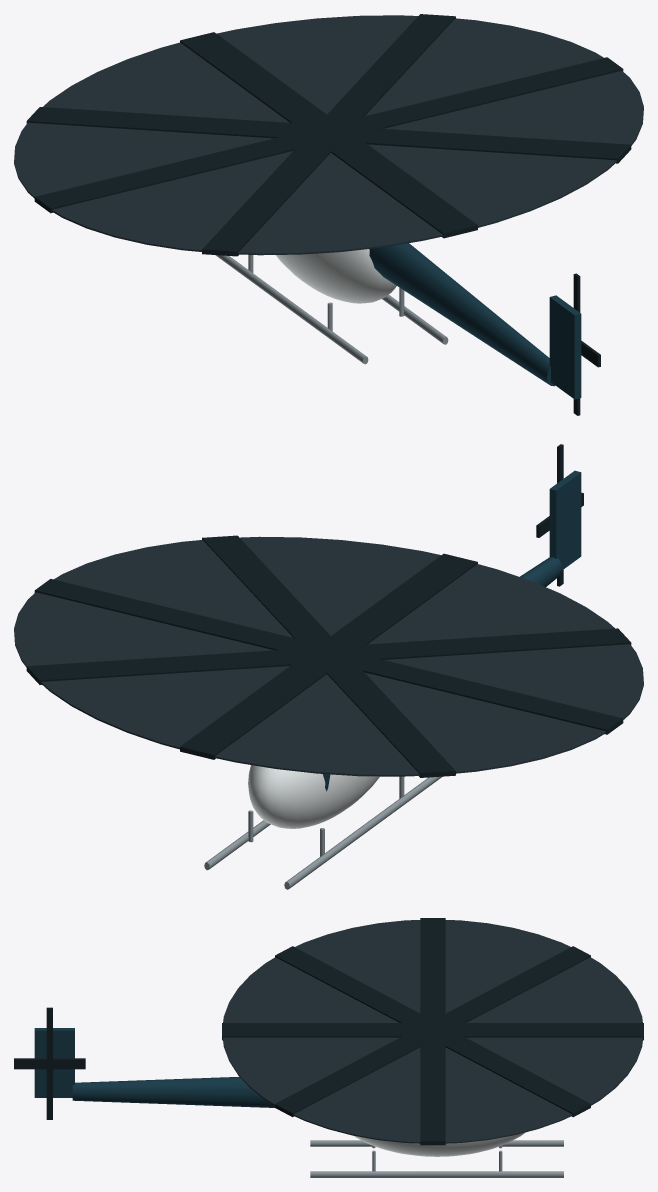
3 renders of one model, top to bottom at view 1: azimuth 30°, elevation 25°; view 2: azimuth 150°, elevation 25°; view 3: azimuth 270°, elevation 25°, orthographic. The views are drawn at different scales.
Bounding box in the file's own units: 10.2 × 3.35 × 12.16.
